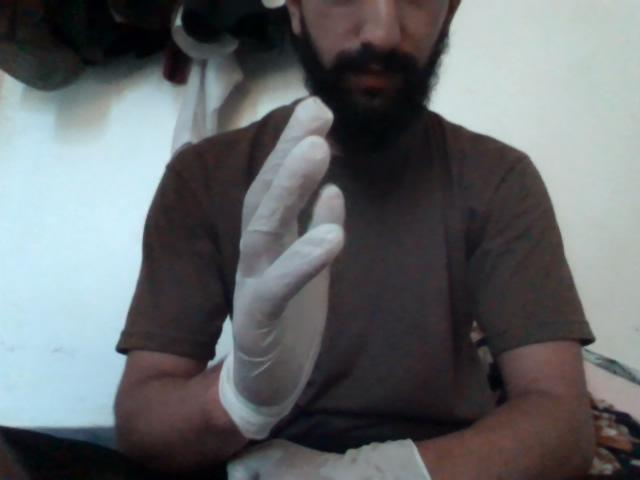gloves: (202, 102, 379, 420)
